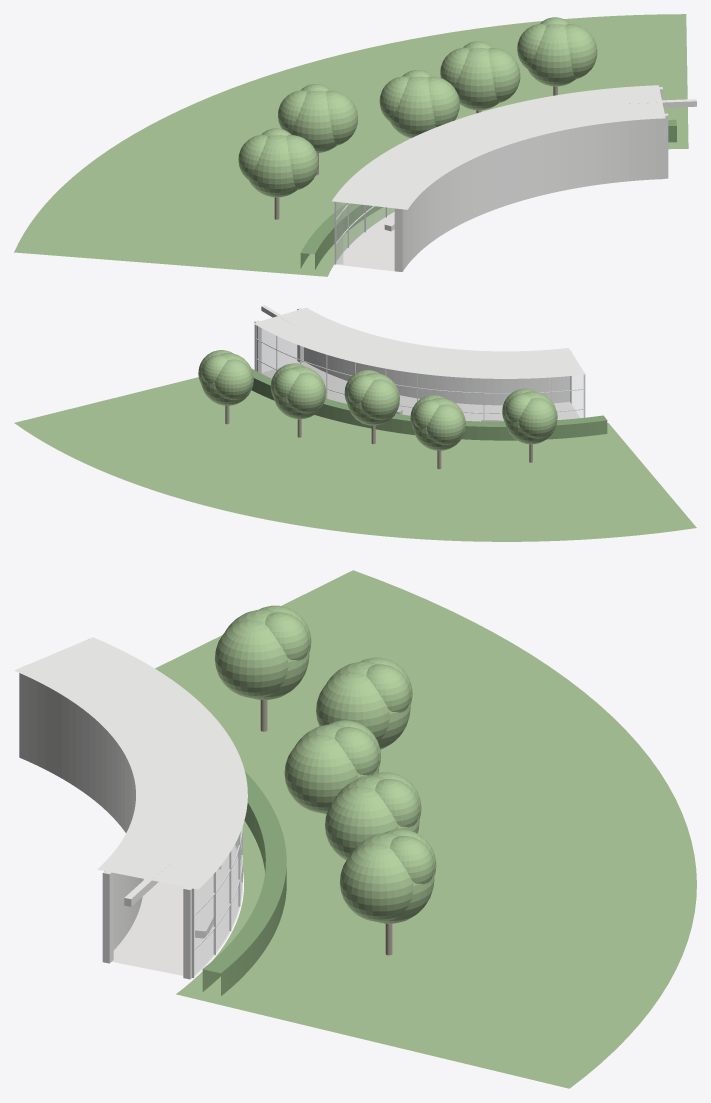
The model's file is profile-gallery.glb.
3 views of the same model, one above another, from view 1: azimuth 30°, elevation 25°; view 2: azimuth 150°, elevation 25°; view 3: azimuth 270°, elevation 25° (orthographic). The views are drawn at different scales.
Visible parts, largest first — view 1: PRG_LandscapeGround, PRG_InnerWall, PRG_Ceiling, PRG_TreeCanopy_05_0, PRG_TreeCanopy_01_0, PRG_TreeCanopy_04_0, PRG_HedgeRow, PRG_Floor, PRG_TreeCanopy_03_0, PRG_TreeCanopy_02_0, PRG_OuterCurtainWall_Glass, PRG_TreeCanopy_01_2 (+9 smaller); view 2: PRG_LandscapeGround, PRG_Ceiling, PRG_OuterCurtainWall_Glass, PRG_InnerWall, PRG_HedgeRow, PRG_Floor, PRG_TreeCanopy_03_1, PRG_TreeCanopy_01_1, PRG_TreeCanopy_02_1, PRG_TreeCanopy_04_1, PRG_TreeCanopy_05_1, PRG_TreeCanopy_04_0 (+10 smaller); view 3: PRG_LandscapeGround, PRG_Ceiling, PRG_InnerWall, PRG_Floor, PRG_HedgeRow, PRG_TreeCanopy_01_2, PRG_TreeCanopy_05_2, PRG_TreeCanopy_03_2, PRG_OuterCurtainWall_Glass, PRG_TreeCanopy_04_2, PRG_TreeCanopy_02_2, PRG_TreeCanopy_02_3 (+9 smaller).
Part boxes in pixels (left/top/right/bottom): PRG_LandscapeGround: left=14, top=14, right=688, bottom=276; PRG_InnerWall: left=394, top=118, right=665, bottom=271; PRG_Ceiling: left=332, top=85, right=665, bottom=209; PRG_TreeCanopy_05_0: left=527, top=24, right=575, bottom=86; PRG_TreeCanopy_01_0: left=249, top=135, right=296, bottom=197; PRG_TreeCanopy_04_0: left=454, top=48, right=498, bottom=110; PRG_HedgeRow: left=300, top=119, right=676, bottom=269; PRG_Floor: left=336, top=213, right=394, bottom=271; PRG_TreeCanopy_03_0: left=390, top=76, right=436, bottom=138; PRG_TreeCanopy_02_0: left=290, top=90, right=336, bottom=152; PRG_OuterCurtainWall_Glass: left=336, top=202, right=394, bottom=264; PRG_TreeCanopy_01_2: left=286, top=135, right=318, bottom=189; PRG_LandscapeGround: left=14, top=377, right=696, bottom=541; PRG_Ceiling: left=253, top=307, right=585, bottom=378; PRG_OuterCurtainWall_Glass: left=256, top=325, right=584, bottom=421; PRG_InnerWall: left=304, top=347, right=571, bottom=405; PRG_HedgeRow: left=251, top=368, right=607, bottom=440; PRG_Floor: left=261, top=362, right=579, bottom=421; PRG_TreeCanopy_03_1: left=361, top=379, right=398, bottom=419; PRG_TreeCanopy_01_1: left=518, top=398, right=556, bottom=438; PRG_TreeCanopy_02_1: left=427, top=404, right=464, bottom=444; PRG_TreeCanopy_04_1: left=287, top=372, right=324, bottom=413; PRG_TreeCanopy_05_1: left=215, top=359, right=252, bottom=399; PRG_TreeCanopy_04_0: left=273, top=366, right=326, bottom=419; PRG_LandscapeGround: left=155, top=570, right=696, bottom=1088; PRG_Ceiling: left=14, top=637, right=247, bottom=889; PRG_InnerWall: left=19, top=665, right=143, bottom=950; PRG_Floor: left=112, top=847, right=241, bottom=975; PRG_HedgeRow: left=202, top=771, right=286, bottom=995; PRG_TreeCanopy_01_2: left=214, top=620, right=288, bottom=698; PRG_TreeCanopy_05_2: left=339, top=843, right=413, bottom=921; PRG_TreeCanopy_03_2: left=284, top=735, right=357, bottom=812; PRG_OuterCurtainWall_Glass: left=194, top=830, right=242, bottom=974; PRG_TreeCanopy_04_2: left=325, top=786, right=398, bottom=860; PRG_TreeCanopy_02_2: left=316, top=672, right=389, bottom=741; PRG_TreeCanopy_02_3: left=366, top=664, right=410, bottom=712.
Size of the model in its own units: 64.76 by 6.92 by 36.04.
